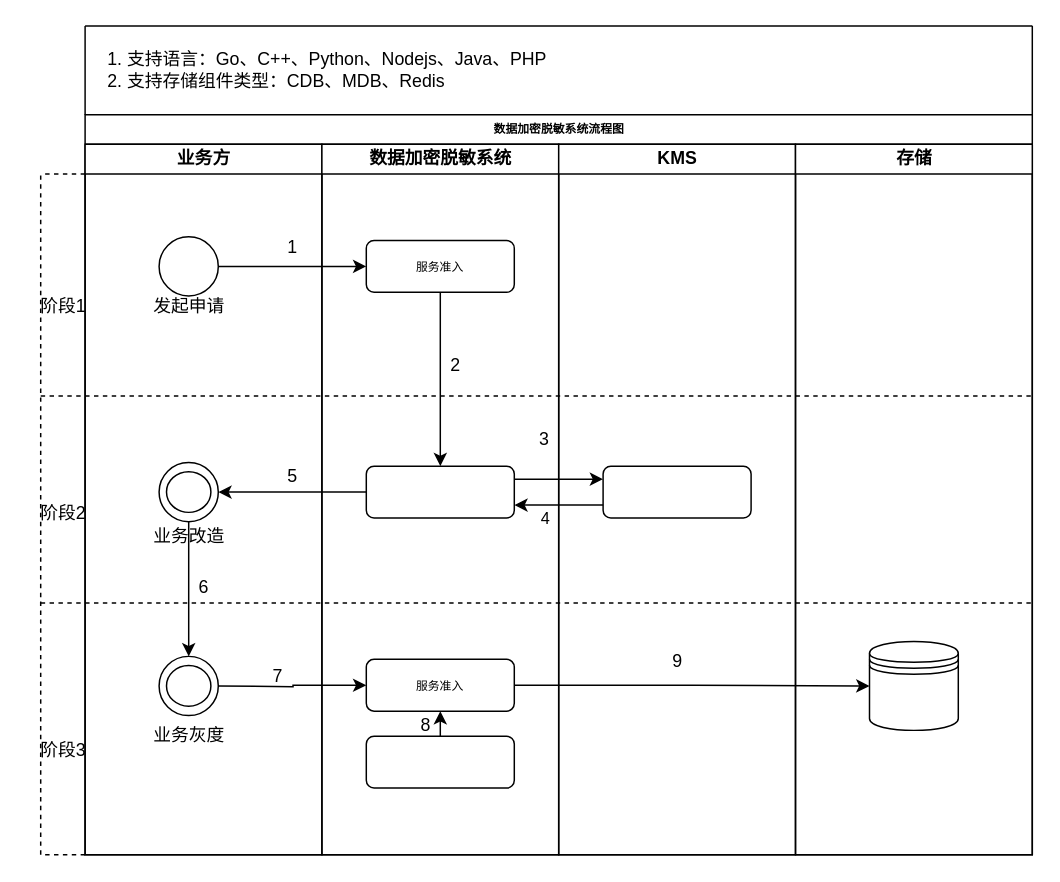
This 1060x882 diagram has some shape labels left out. Here are the shapes that lost their labels. From the top down, the centre of each, then its label:
pixel 439 491: 密钥分发
pixel 676 491: 密钥系统
pixel 913 685: DB
pixel 439 761: 控制开关
